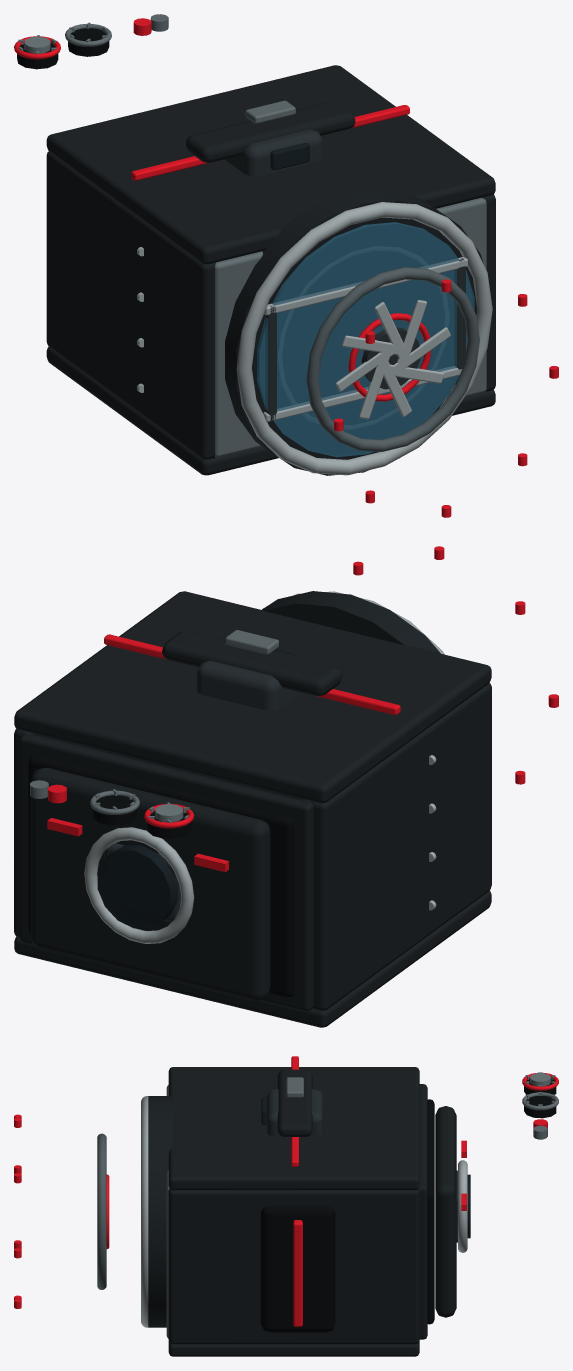
The model's file is ufirst-camera-distant.glb.
3 renders of one model, top to bottom at view 1: azimuth 30°, elevation 25°; view 2: azimuth 150°, elevation 25°; view 3: azimuth 270°, elevation 25°, orthographic. The views are drawn at different scales.
Visible parts, largest first — view 1: TopPlate, LeftBodyRail, FrontLens, LensHousingFrontEdge, LensHousing, Aperture, FrontChassisPlate, TopCarryHandle, BottomPlate, ViewfinderPrism, RightBodyRail, Shutter (+17 smaller); view 2: TopPlate, LeftBodyRail, RearModule, RearChassisPlate, RearGripPanel, BottomPlate, ViewfinderGlass, TopCarryHandle, LensHousing, ViewfinderRing, ViewfinderPrism, UFirstAccentRail (+3 smaller); view 3: RightBodyRail, TopPlate, Grip, LensHousing, RearModule, BottomPlate, RearChassisPlate, TopCarryHandle, LensHousingFrontEdge, RearGripPanel, Aperture, ViewfinderPrism (+4 smaller).
Boxes of the visible parts, bbox=[...] form: TopPlate: bbox=[46, 65, 495, 264]; LeftBodyRail: bbox=[46, 151, 215, 459]; FrontLens: bbox=[257, 222, 474, 457]; LensHousingFrontEdge: bbox=[236, 202, 492, 475]; LensHousing: bbox=[225, 188, 490, 475]; Aperture: bbox=[306, 267, 479, 451]; FrontChassisPlate: bbox=[215, 197, 486, 457]; TopCarryHandle: bbox=[186, 101, 355, 162]; BottomPlate: bbox=[46, 347, 495, 475]; ViewfinderPrism: bbox=[224, 120, 322, 176]; RightBodyRail: bbox=[482, 194, 495, 391]; Shutter: bbox=[264, 257, 467, 315]; TopPlate: bbox=[14, 591, 491, 803]; LeftBodyRail: bbox=[311, 683, 491, 1010]; RearModule: bbox=[30, 768, 270, 1000]; RearChassisPlate: bbox=[20, 734, 313, 1010]; RearGripPanel: bbox=[28, 755, 294, 997]; BottomPlate: bbox=[14, 891, 491, 1027]; ViewfinderGlass: bbox=[97, 845, 177, 928]; TopCarryHandle: bbox=[162, 631, 342, 695]; LensHousing: bbox=[262, 591, 440, 653]; ViewfinderRing: bbox=[84, 827, 194, 943]; ViewfinderPrism: bbox=[197, 651, 301, 710]; UFirstAccentRail: bbox=[104, 634, 400, 714]; RightBodyRail: bbox=[168, 1188, 419, 1344]; TopPlate: bbox=[168, 1067, 419, 1190]; Grip: bbox=[260, 1205, 335, 1332]; LensHousing: bbox=[148, 1096, 173, 1327]; RearModule: bbox=[435, 1106, 456, 1317]; BottomPlate: bbox=[168, 1340, 419, 1356]; RearChassisPlate: bbox=[418, 1084, 427, 1339]; TopCarryHandle: bbox=[277, 1069, 312, 1136]; LensHousingFrontEdge: bbox=[141, 1096, 148, 1327]; RearGripPanel: bbox=[427, 1099, 434, 1324]; Aperture: bbox=[97, 1133, 106, 1289]; ViewfinderPrism: bbox=[266, 1089, 323, 1136].
Size of the model in its own units: 6 by 5.33 by 11.28.
